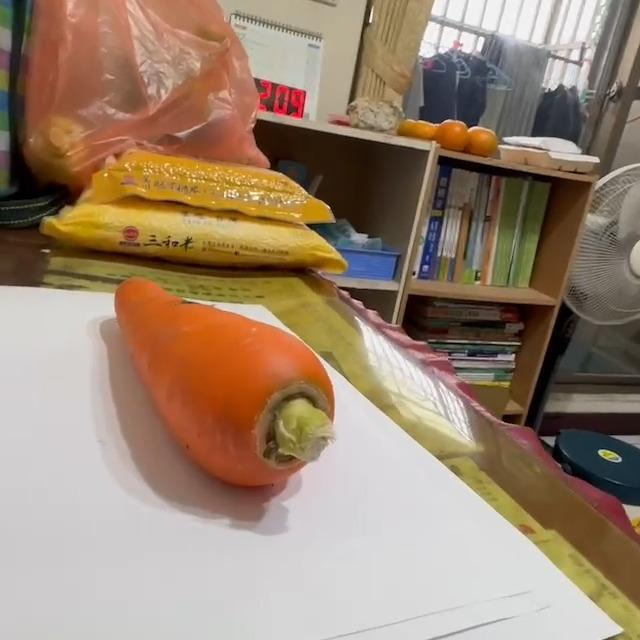carrot: (116, 277, 340, 489)
